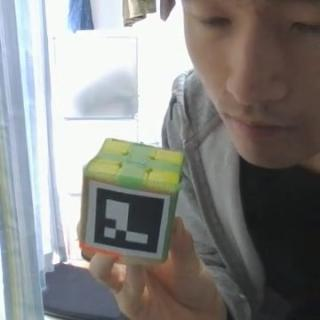armor: (84, 179, 170, 259)
robot: (78, 137, 184, 263)
